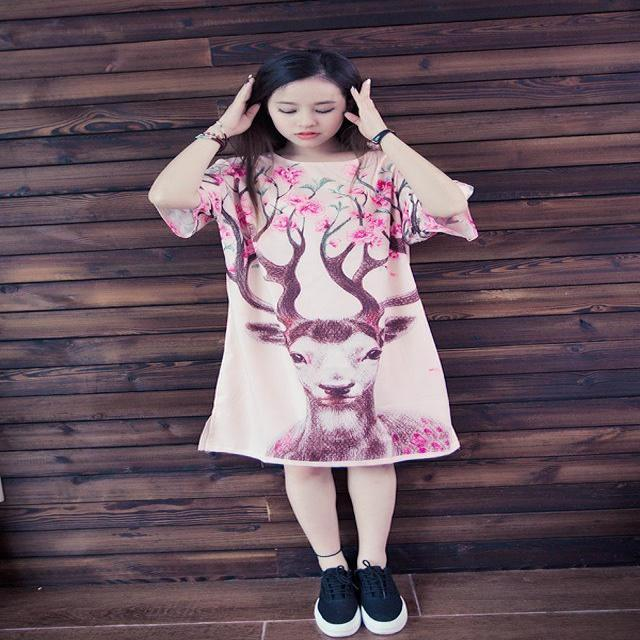long sleeve dress: (160, 147, 467, 467)
